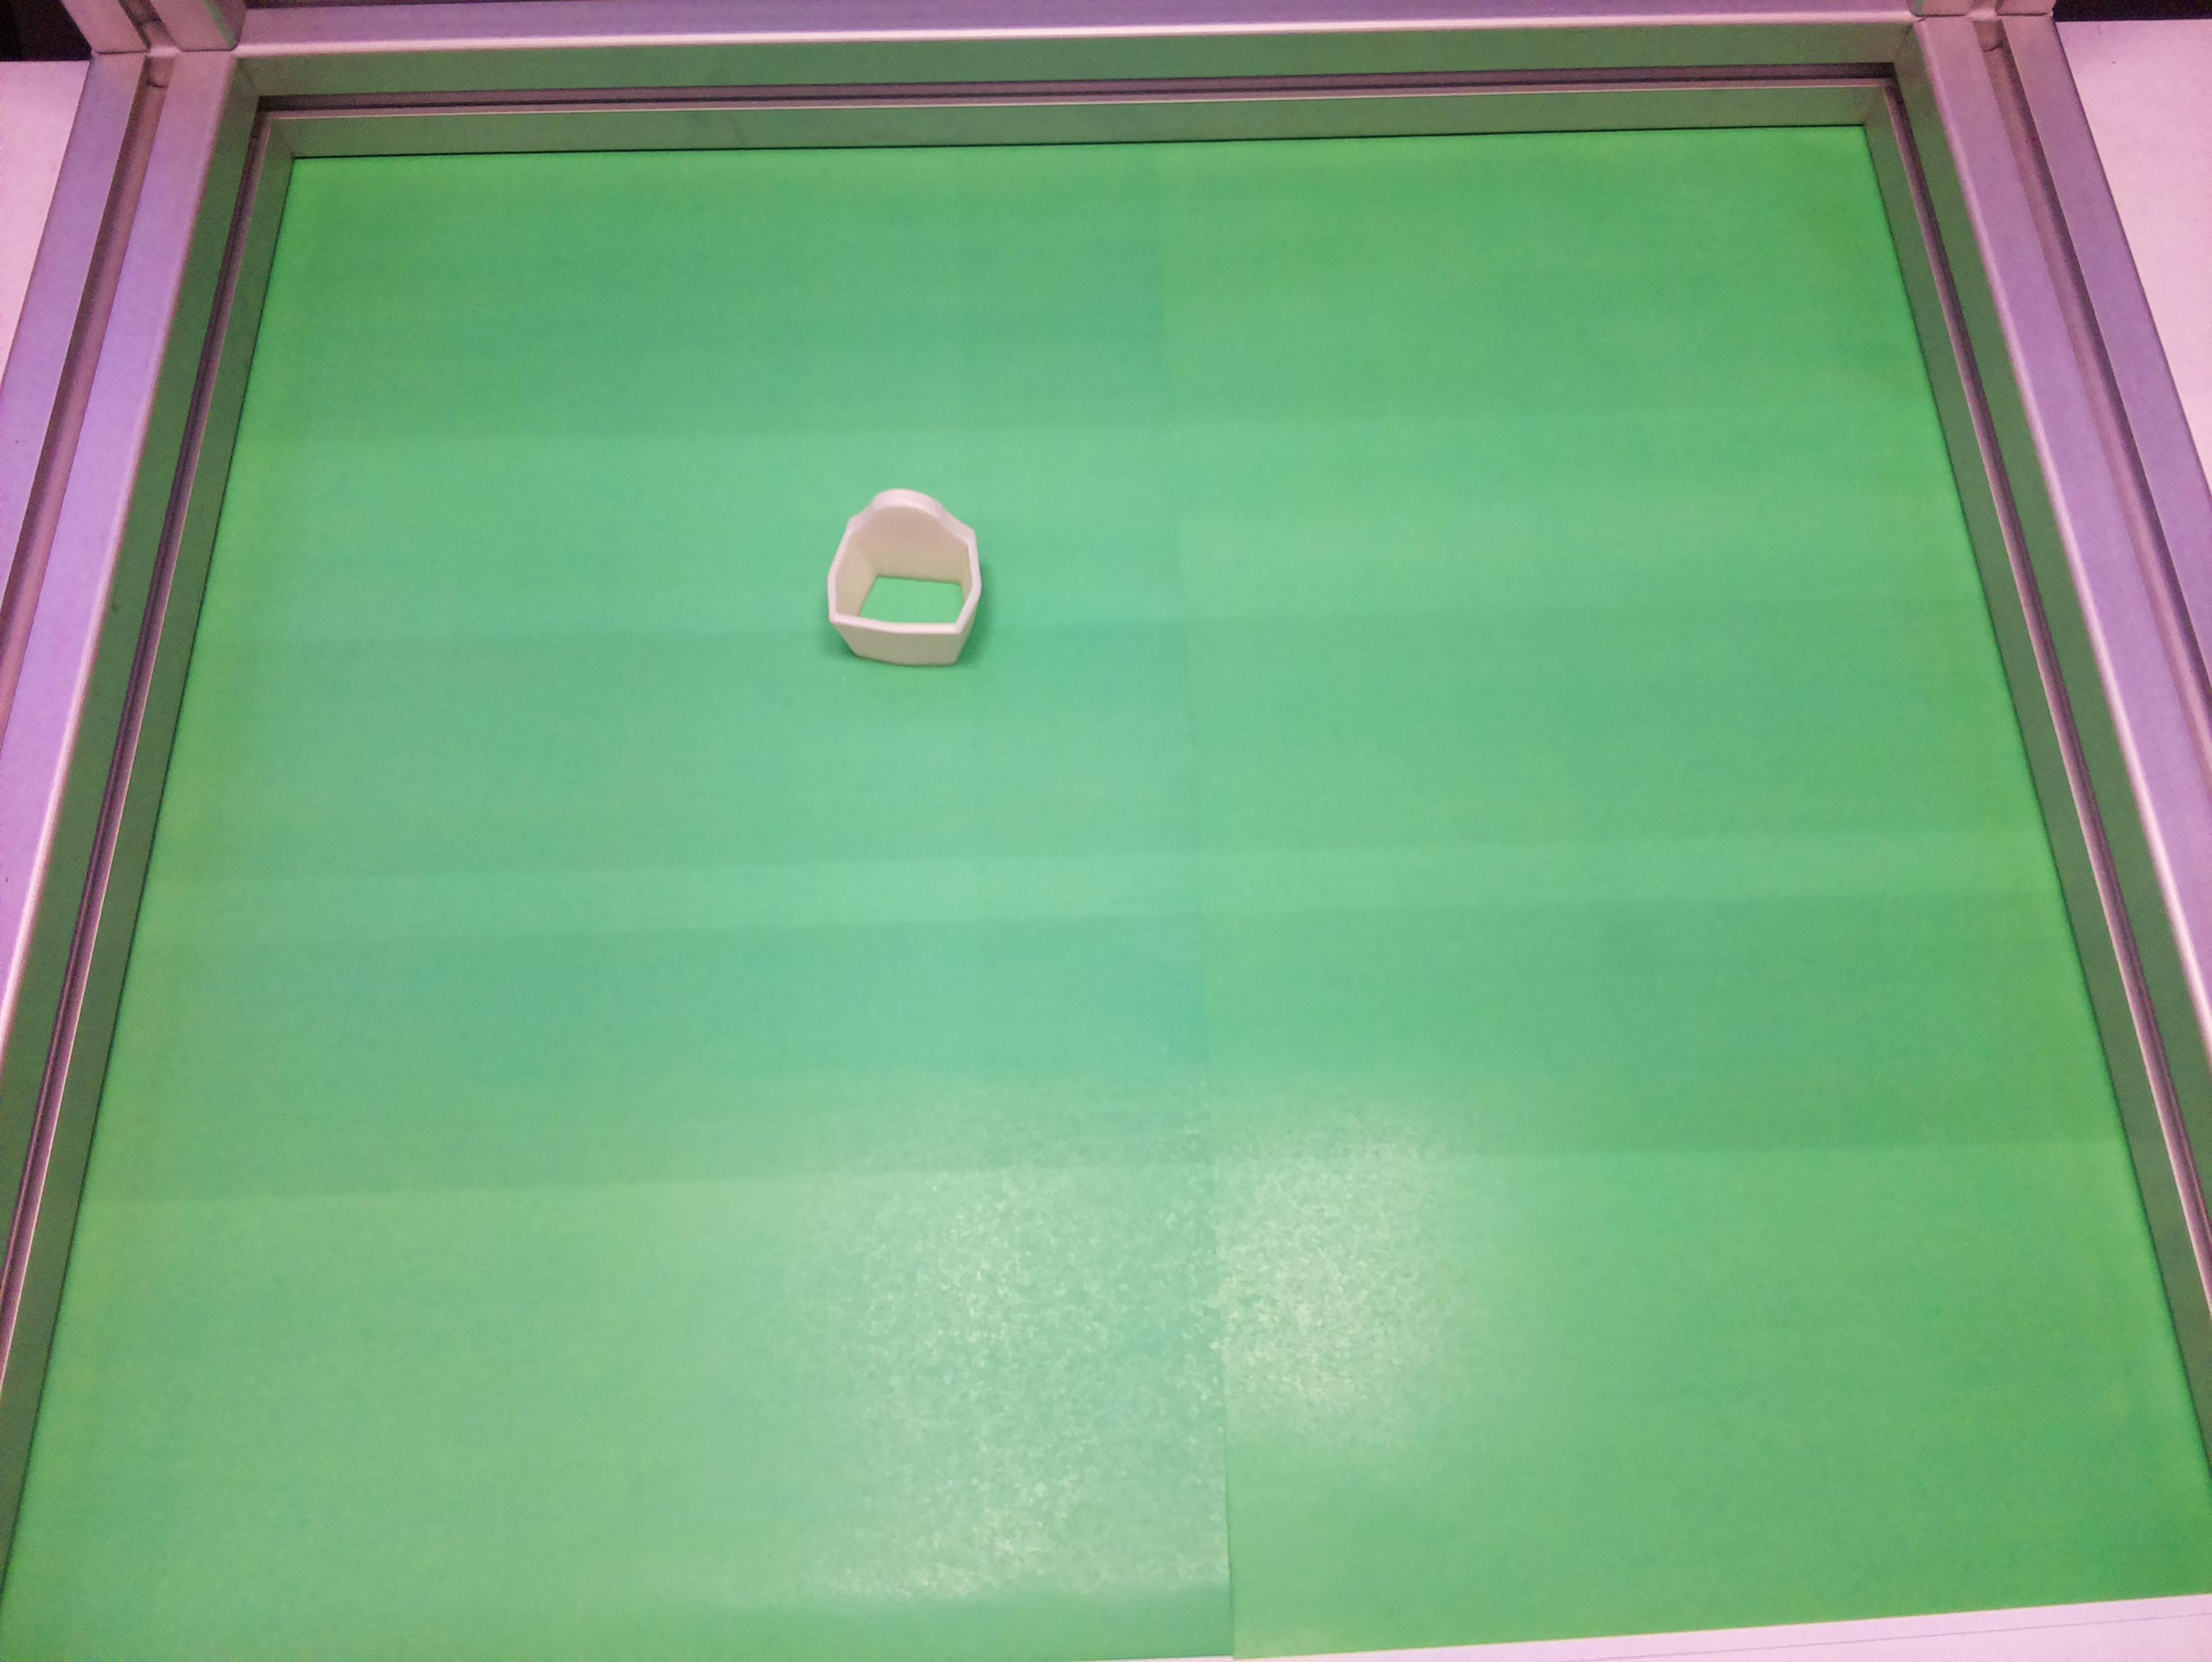tool_holder: (805, 475, 1011, 690)
